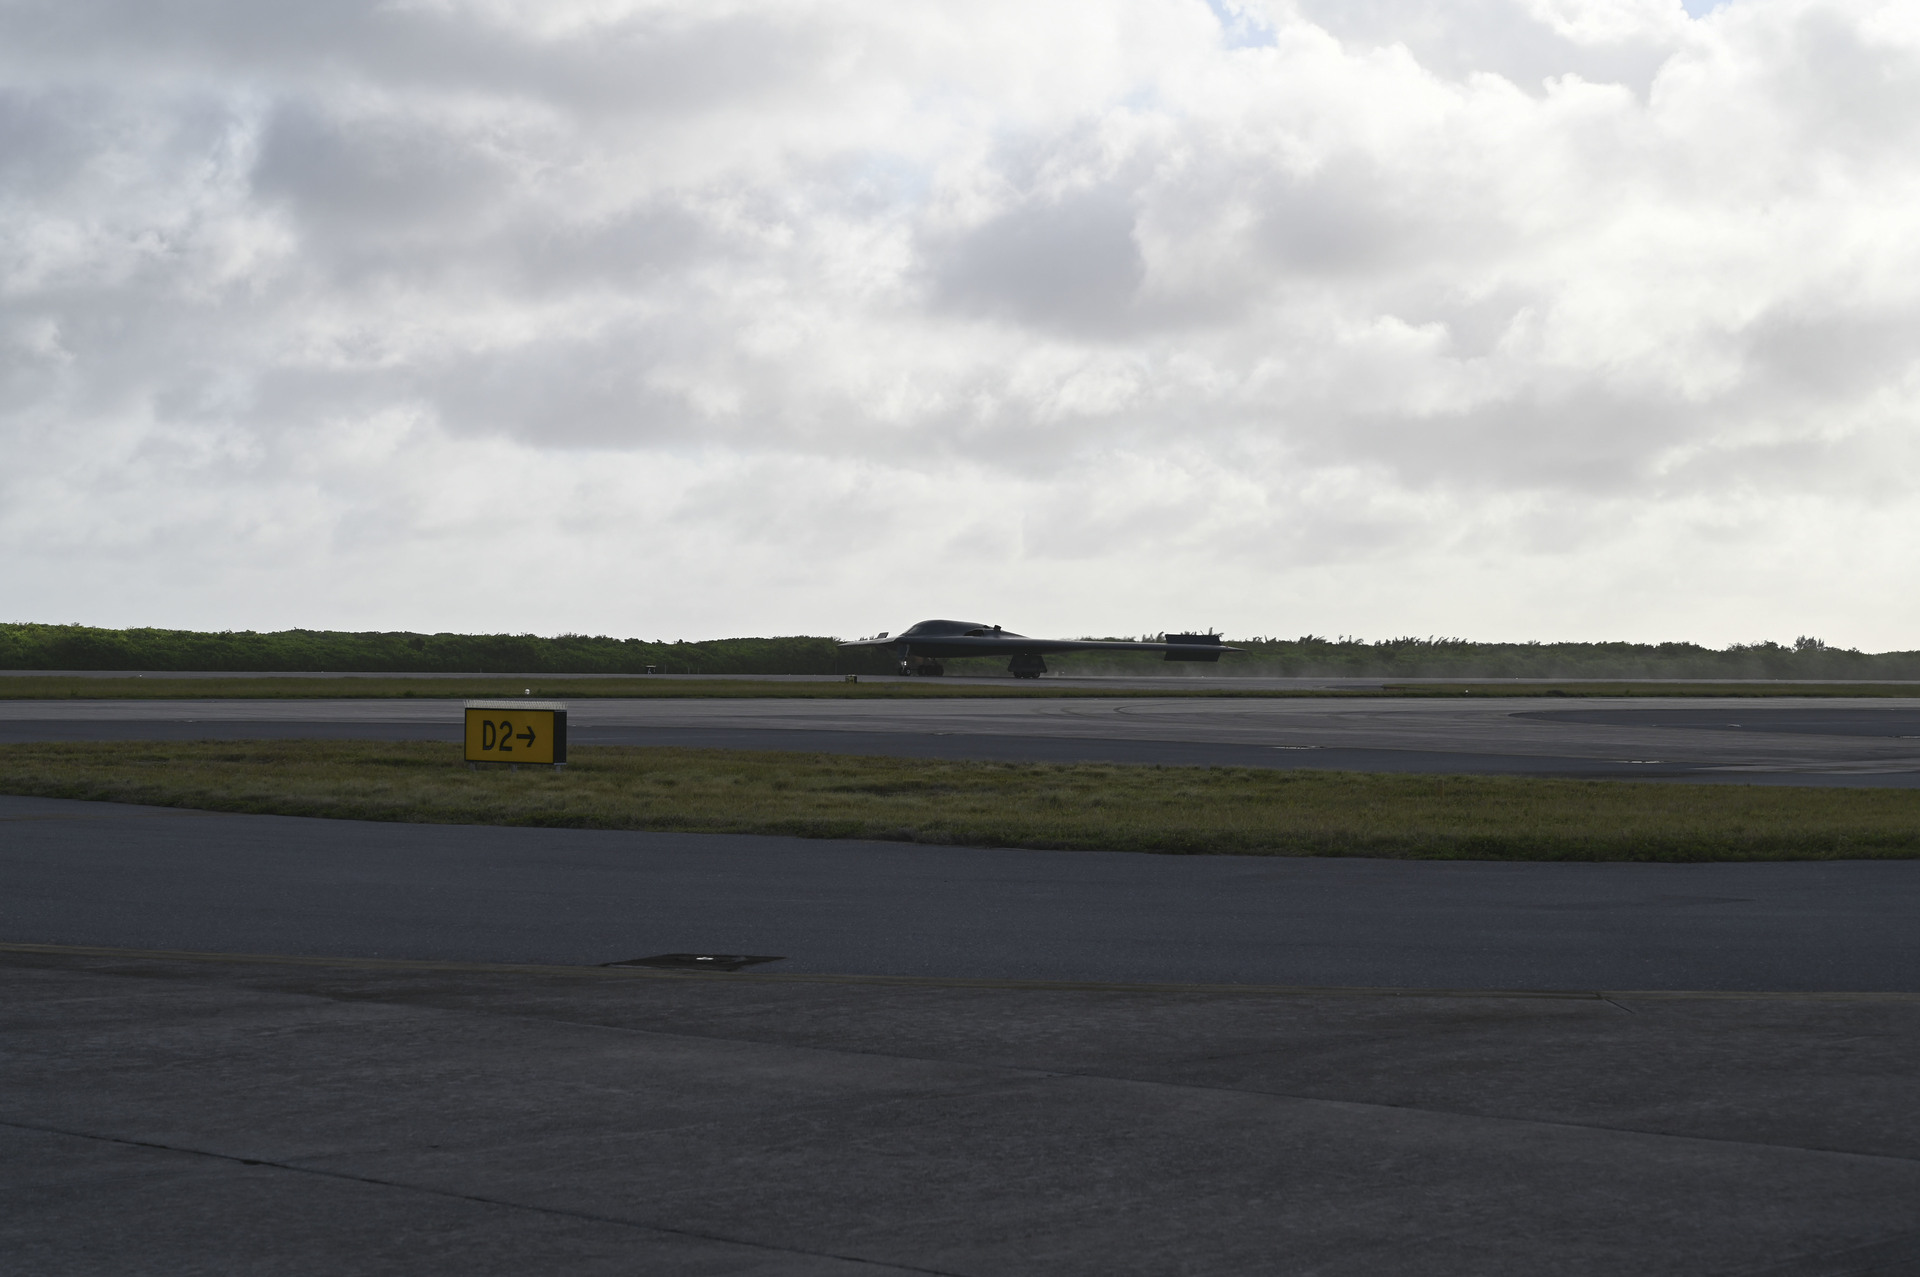B2: (837, 619, 1249, 678)
